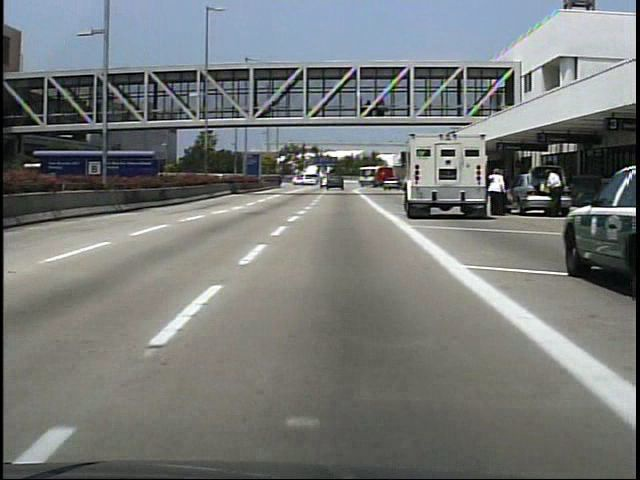person: (487, 162, 512, 219), (542, 165, 566, 216)
